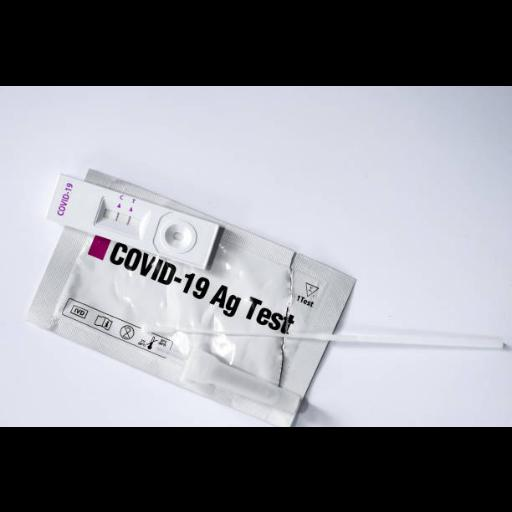Pos: (44, 175, 219, 268)
